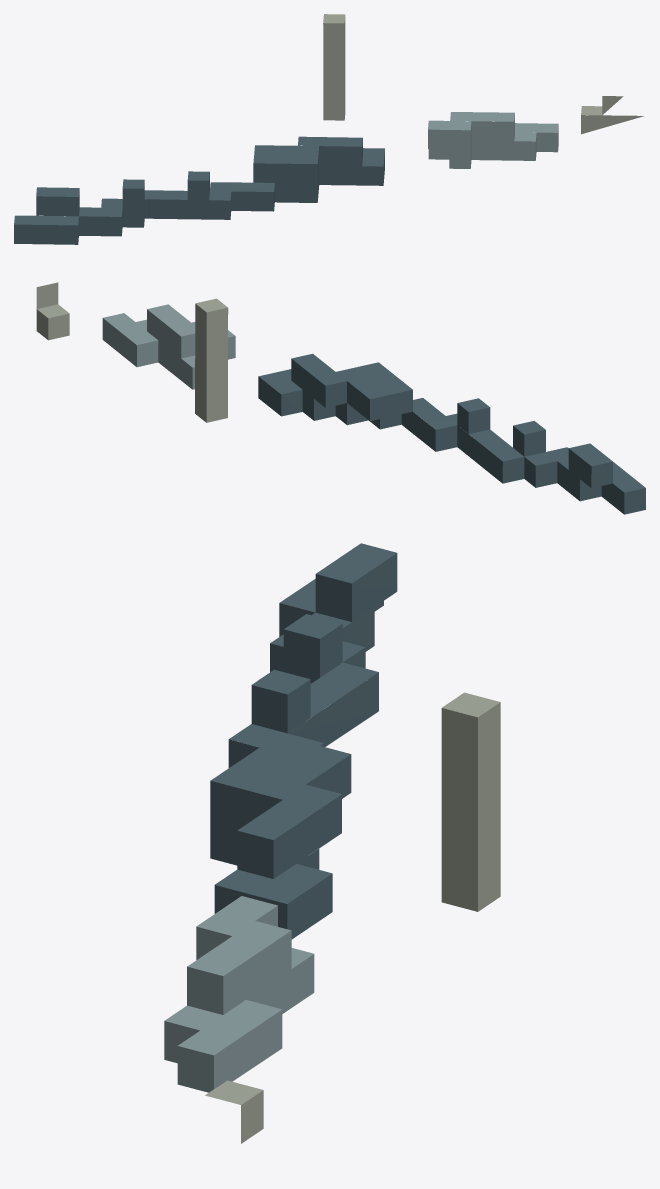
3 renders of one model, top to bottom at view 1: azimuth 30°, elevation 25°; view 2: azimuth 150°, elevation 25°; view 3: azimuth 270°, elevation 25°, orthographic. The views are drawn at different scales.
Visible parts, largest first — view 1: measured-industrial; view 2: measured-industrial; view 3: measured-industrial.
Part boxes in pixels (x1,y1,x2,y2): measured-industrial: [14, 14, 643, 244]; measured-industrial: [36, 282, 645, 514]; measured-industrial: [164, 543, 500, 1143].
Size of the model in its own units: 48.02 by 9.02 by 11.95.
